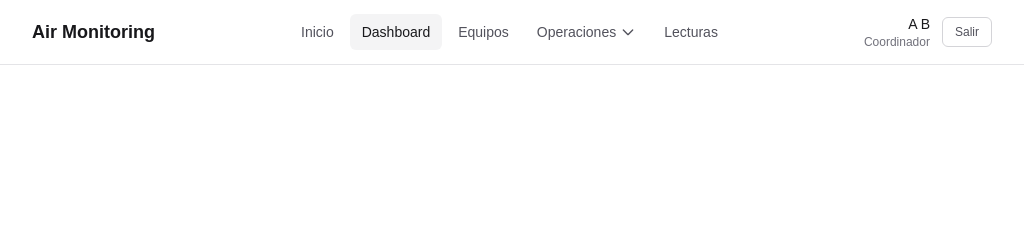
Scenario: Header — Operaciones dropdown open/close › closes the dropdown when clicking outside
The image size is (1024, 234).
Click the button "Operaciones" at (586, 32), box [525,14,648,50]
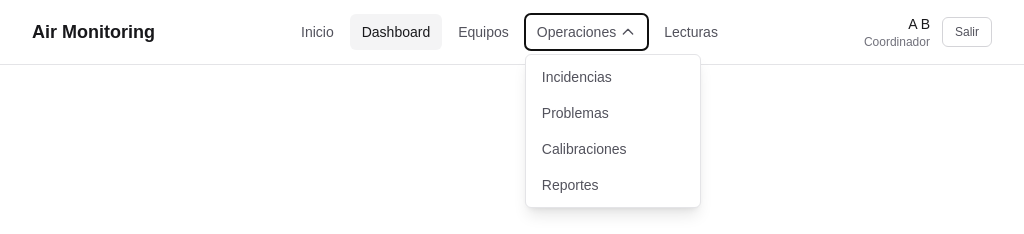
Expected: the link "Incidencias" is shown, [542,69,612,85]
Press the mouse on the element that starts with "Air Monitoring" at (512, 32), box [0,0,1023,65]
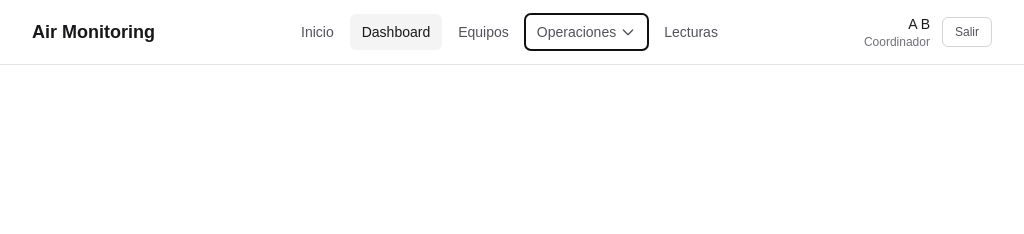
Expected: the link "Incidencias" is gone
